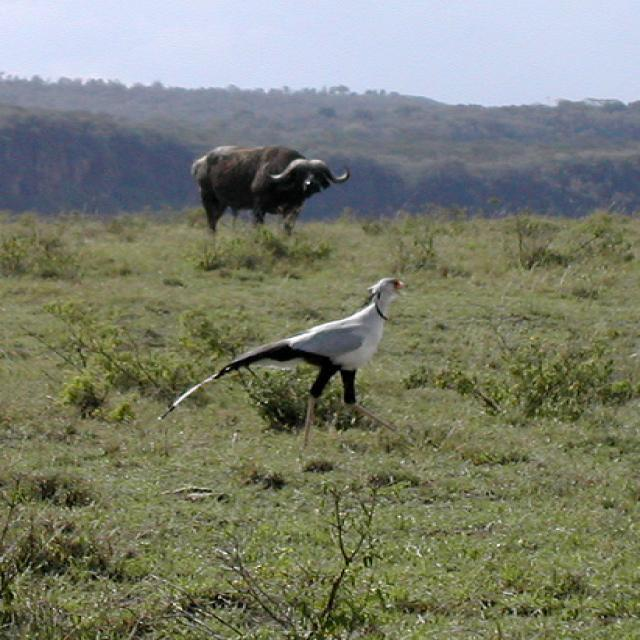cow: (189, 143, 348, 232)
